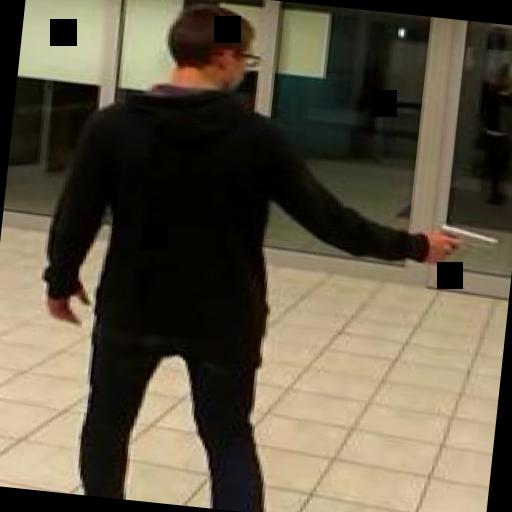Handgun: (428, 219, 496, 263)
